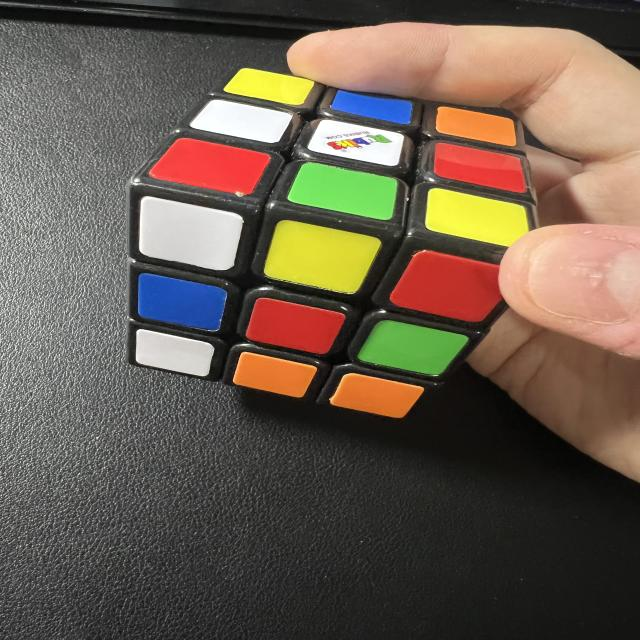blue: (130, 273, 227, 332), (330, 87, 413, 124)
center: (244, 295, 347, 358), (306, 116, 406, 169)
green: (358, 317, 470, 381), (285, 159, 397, 221)
orange: (330, 371, 424, 422), (232, 350, 317, 401), (433, 105, 522, 147)
red: (388, 246, 508, 325), (148, 131, 271, 199), (244, 295, 346, 358), (430, 143, 530, 193)
white: (128, 195, 242, 274), (190, 95, 292, 146), (306, 117, 404, 168), (128, 328, 213, 380)
yellow: (261, 218, 382, 297), (420, 187, 533, 250), (223, 65, 316, 107)
